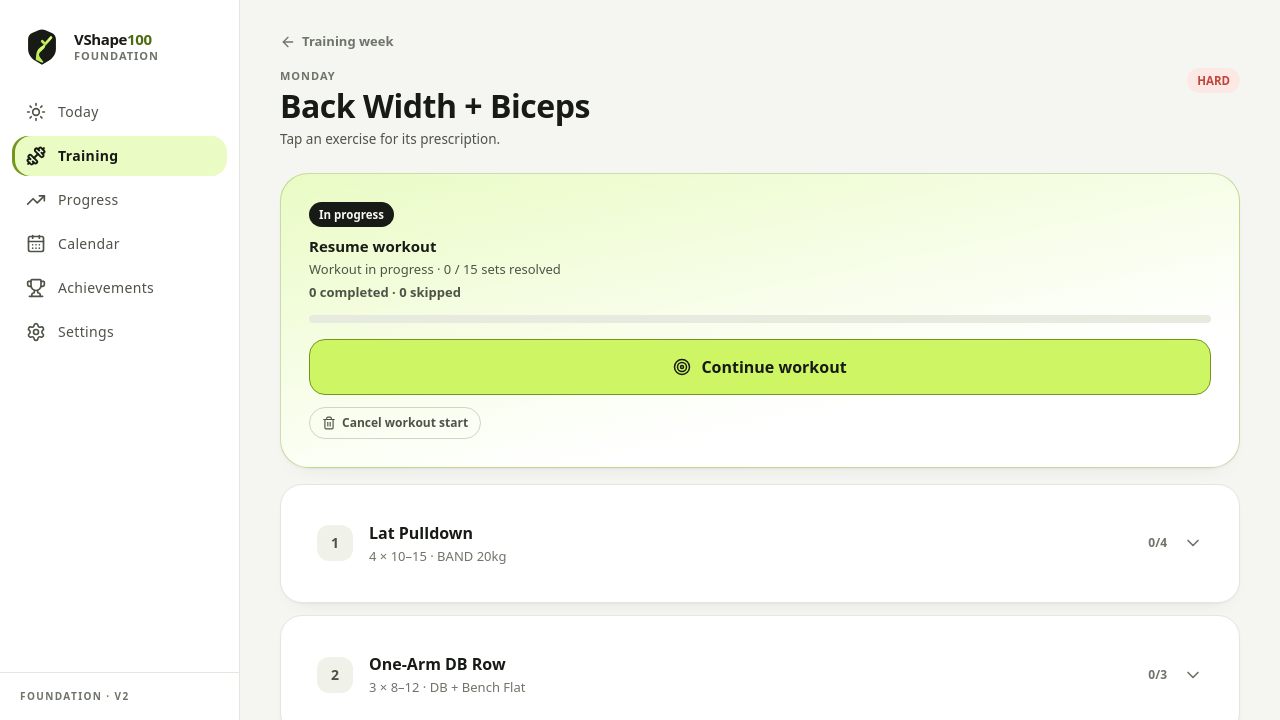
2. starting-load calibration › 1, 2. asks for the first working set before offering any choice
Expected: the heading "Back Width + Biceps" is shown, [280,88,590,125]
Expected: the text "Resume workout" is shown, [309,236,436,256]
Step 1. Click the button "1 Lat Pulldown 4 × 10–15 · BAND 20kg 0/4" → (335, 543), box [301,505,1219,582]
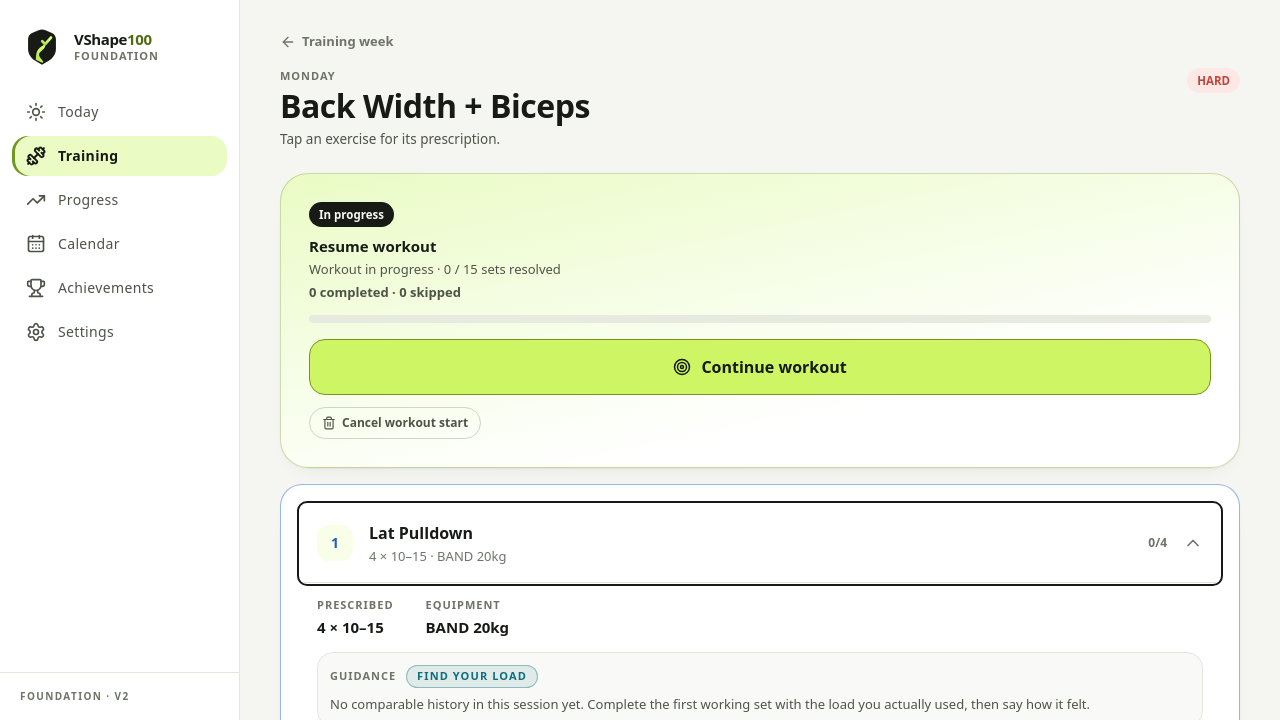
Now the text with test id "guidance-state-0" reads "Find your load", box [417,668,527,683]
